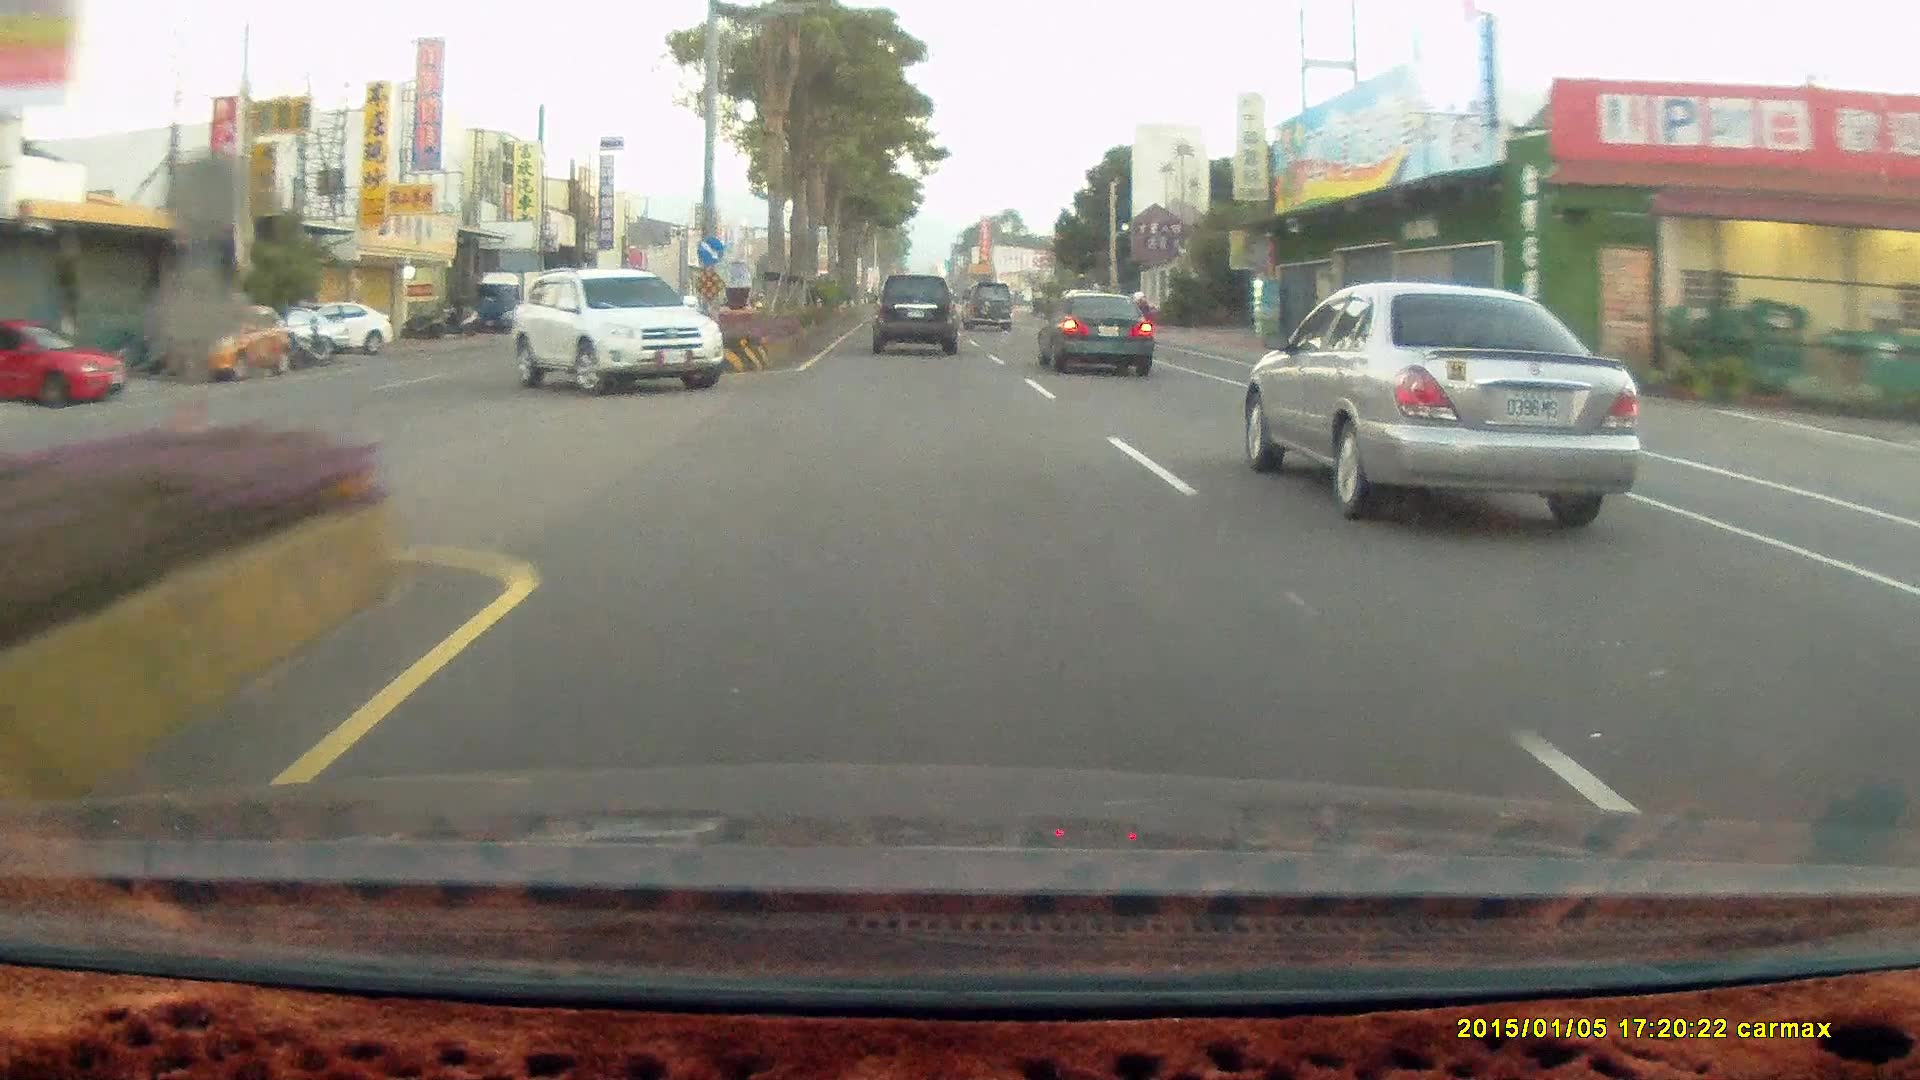vehicle: (1237, 276, 1639, 531), (502, 266, 727, 393), (505, 268, 727, 392), (158, 305, 291, 386), (160, 302, 293, 382), (1, 323, 124, 410), (1036, 287, 1154, 375), (1042, 295, 1156, 378), (872, 276, 967, 361), (872, 274, 956, 352), (277, 297, 393, 352), (280, 302, 396, 357), (959, 281, 1017, 335), (959, 280, 1015, 332)
